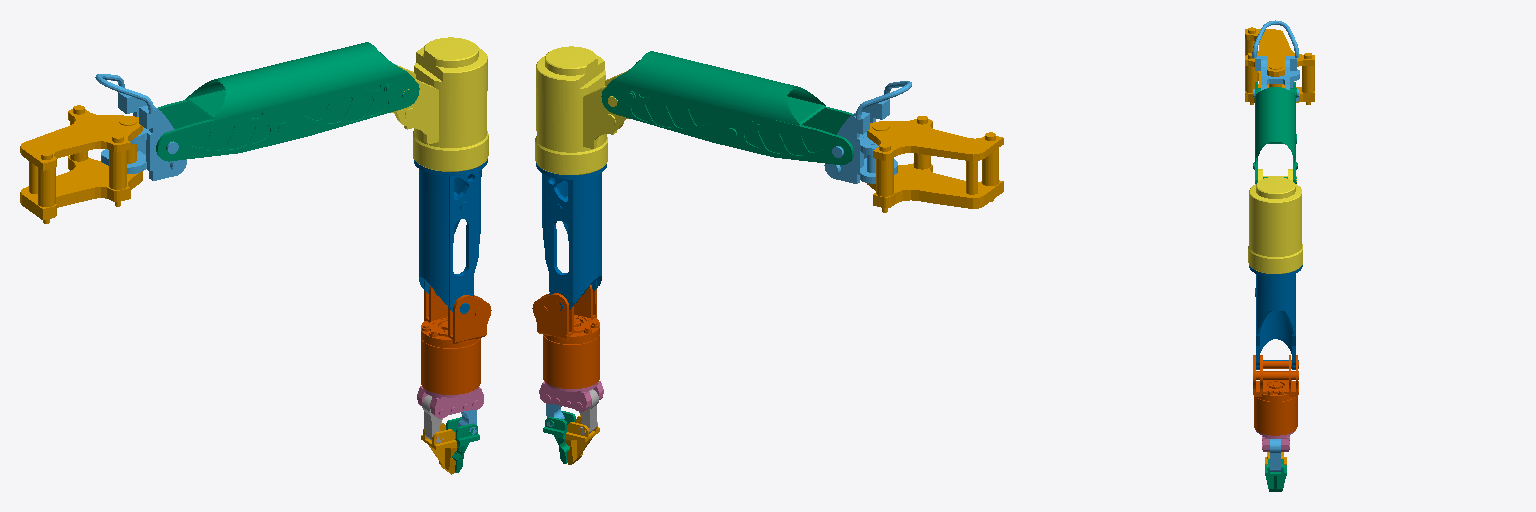
robot.urdf — oberon7:
<?xml version="1.0" encoding="utf-8"?>
<robot
  name="oberon7">
    <link name="base">
        <inertial>
          <origin rpy="0 0 0" xyz="-0.101581 -0.001371 -0.009781"/>
          <mass value="9.67467717018"/>
          <inertia ixx="0.0511731678147" ixy="0.0" ixz="0.0" iyy="0.0836771724144" iyz="0.0" izz="0.0958032978152"/>
        </inertial>

        <visual>
            <origin xyz="0 0 0" rpy="0 0 0"/>
            <geometry>
                <mesh filename="package://rexrov_triple_oberon_description/meshes/Base.stl"/>
            </geometry>
        </visual>

        <collision>
            <origin xyz="0 0 0" rpy="0 0 0"/>
            <geometry>
                <mesh filename="package://rexrov_triple_oberon_description/meshes/Base.stl"/>
            </geometry>
        </collision>
    </link>

    <link name="shoulder_link">
        <inertial>
          <origin rpy="0 0 0" xyz="0.039670 0.005441 0.017383"/>
          <mass value="6.72225246901"/>
          <inertia ixx="0.0425839738294" ixy="0.0" ixz="0.0" iyy="0.0513257548564" iyz="0.0" izz="0.0295765413777"/>
        </inertial>

        <visual>
            <origin xyz="0 0 0" rpy="0 0 0"/>
            <geometry>
                <mesh filename="package://rexrov_triple_oberon_description/meshes/ShoulderLink.stl"/>
            </geometry>
        </visual>

        <collision>
          <origin rpy="0 0 0" xyz="0.039670 0.005441 0.017383"/>
          <geometry>
            <cylinder length="0.239627" radius="0.068184"/>
          </geometry>
        </collision>
    </link>

    <joint name="azimuth" type="revolute">
        <parent link="base"/>
        <child link="shoulder_link"/>
        <axis xyz="0 0 1"/>
        <limit effort="200" lower="-1.04719758" upper="1.04719758" velocity="0.17"/>
    </joint>


    <link name="upper_arm">
        <inertial>
          <origin rpy="0 0 0" xyz="0.312501 0.017478 -0.000002"/>
          <mass value="12.4443999072"/>
          <inertia ixx="0.0378234483246" ixy="0.0" ixz="0.0" iyy="0.411488180504" iyz="0.0" izz="0.415420854645"/>
        </inertial>

        <visual>
            <origin xyz="0 0 0" rpy="0 0 0"/>
            <geometry>
                <mesh filename="package://rexrov_triple_oberon_description/meshes/UpperArm.stl"/>
            </geometry>
        </visual>

        <collision>
          <origin rpy="0 1.57079632679 0" xyz="0.312501 0.017478 -0.000002"/>
          <geometry>
            <cylinder length="0.616809" radius="0.0709445"/>
          </geometry>
        </collision>
    </link>

    <joint name="shoulder" type="revolute">
        <parent link="shoulder_link"/>
        <child link="upper_arm"/>
        <origin rpy="1.57079632679 0 0" xyz="0.06955 0.00015 0.01536"/>
        <axis xyz="0 0 1"/>
        <limit effort="5000" lower="-1.57079637" upper="1.57079637" velocity=".17"/>
    </joint>

    <link name="elbow_link">
        <inertial>
          <origin rpy="0 0 0" xyz="0.125269 -0.074675 0.0"/>
          <mass value="10.3145088675"/>
          <inertia ixx="0.0717197873733" ixy="0.0" ixz="0.0" iyy="0.0724090834438" iyz="0.0" izz="0.10276175034"/>
        </inertial>

        <visual>
            <origin xyz="0 0 0" rpy="0 0 0"/>
            <geometry>
                <mesh filename="package://rexrov_triple_oberon_description/meshes/ElbowLink.stl"/>
            </geometry>
        </visual>

        <collision>
          <origin rpy="0 1.57079632679 1.57079632679" xyz="0.125269 -0.074675 0.0"/>
          <geometry>
            <cylinder length="0.245312" radius="0.077562"/>
          </geometry>
        </collision>
    </link>

    <joint name="elbow" type="revolute">
        <parent link="upper_arm"/>
        <child link="elbow_link"/>
        <origin xyz="0.55616 -0.01229 0" rpy="0 0 0"/>
        <axis xyz="0 0 1"/>
        <limit effort="300" lower="-1.57079637" upper="1.04719758" velocity=".13"/>
    </joint>

    <link name="forearm">
        <inertial>
          <origin rpy="0 0 0" xyz="0 0 0.157978803149"/>
          <mass value="8.54626175585"/>
          <inertia ixx="0.0961794420773" ixy="0.0" ixz="0.0" iyy="0.0961902303084" iyz="0.0" izz="0.0326840256692"/>
        </inertial>

        <visual>
            <origin xyz="0 0 0" rpy="0 0 0"/>
            <geometry>
                <mesh filename="package://rexrov_triple_oberon_description/meshes/Forearm.stl"/>
            </geometry>
        </visual>

        <collision>
          <origin rpy="0 0 0" xyz="0 0 0.157978803149"/>
          <geometry>
            <cylinder length="0.334827" radius="0.0757275"/>
          </geometry>
        </collision>
    </link>

    <joint name="roll" type="revolute">
        <parent link="elbow_link"/>
        <child link="forearm"/>
        <origin rpy="1.57079632679 0 0" xyz="0.1349014 -0.1936267 0"/>
        <axis xyz="0 0 1"/>
        <limit effort="200" lower="-2.356194555" upper="2.356194555" velocity=".085"/>
    </joint>

    <link name="wrist_link">
        <inertial>
          <origin rpy="0 0 0" xyz="0.104016 0.003308 -0.000027"/>
          <mass value="3.9024235777"/>
          <inertia ixx="0.0104282209379" ixy="0.0" ixz="0.0" iyy="0.0211536636614" iyz="0.0" izz="0.020526721979"/>
        </inertial>

        <visual>
            <origin xyz="0 0 0" rpy="0 0 0"/>
            <geometry>
                <mesh filename="package://rexrov_triple_oberon_description/meshes/Wrist.stl"/>
            </geometry>
        </visual>

        <collision>
          <origin rpy="0 1.57079632679 0" xyz="0.104016 0.003308 -0.000027"/>
          <geometry>
            <cylinder length="0.219204" radius="0.065187"/>
          </geometry>
        </collision>
    </link>

    <joint name="pitch" type="revolute">
        <parent link="forearm"/>
        <child link="wrist_link"/>
        <origin rpy="-1.57079632679 -1.57079632679 0" xyz="0 0 0.31595760629823427"/>
        <axis xyz="0 0 1"/>
        <limit effort="200" lower="-1.57079637" upper="1.57079637" velocity=".26"/>
    </joint>







    <link name="end_effector">
        <inertial>
          <origin rpy="0 0 0" xyz="0.024426 -0.000000 -0.000014"/>
          <mass value="3.46114581082"/>
          <inertia ixx="0.00774521740658" ixy="0.0" ixz="0.0" iyy="0.00536142648454" iyz="0.0" izz="0.0055705568526"/>
        </inertial>

        <visual>
            <origin xyz="0 0 0" rpy="0 0 0"/>
            <geometry>
                <mesh filename="package://rexrov_triple_oberon_description/meshes/BaseGripper.stl"/>
            </geometry>
        </visual>

        <collision>
          <origin rpy="0 0 0" xyz="0.024426 -0.000000 -0.000014"/>
          <geometry>
            <box size="0.074326 0.117427 0.114298"/>
          </geometry>
        </collision>
    </link>

    <joint name="wrist" type="revolute">
        <parent link="wrist_link"/>
        <child link="end_effector"/>
        <origin rpy="3.1415 0 0" xyz="0.19304 0 0"/>
        <axis xyz="1 0 0"/>
        <limit effort="30" lower="-6.28318530718" upper="6.28318530718" velocity="0.15"/>
    </joint>

    <link name="finger_left">
        <inertial>
          <origin rpy="0 0 0" xyz="0.025268 -0.001931 -0.000079"/>
          <mass value="0.879770511849"/>
          <inertia ixx="0.000378330605849" ixy="0.0" ixz="0.0" iyy="0.000886148330217" iyz="0.0" izz="0.00091923080428"/>
        </inertial>

        <visual>
            <origin xyz="0 0 0" rpy="0 0 0"/>
            <geometry>
                <mesh filename="package://rexrov_triple_oberon_description/meshes/Finger.stl"/>
            </geometry>
        </visual>

        <collision>
            <origin xyz="0 0 0" rpy="0 0 0"/>
            <geometry>
                <mesh filename="package://rexrov_triple_oberon_description/meshes/Finger.stl"/>
            </geometry>
        </collision>
    </link>

    <joint name="finger_left_joint" type="revolute">
        <parent link="end_effector"/>
        <child link="finger_left"/>
        <origin xyz="0.0444267 0.0391376 0" rpy="0 0 0"/>
        <axis xyz="0 0 1"/>
        <limit effort="30" lower="0" upper="1.04709283144" velocity="0.15"/>
    </joint>

    <link name="finger_tip_left">
        <inertial>
          <origin rpy="0 0 0" xyz="0.027744 0.017278 0.0"/>
          <mass value="1.12550524054"/>
          <inertia ixx="0.000611047001819" ixy="0.0" ixz="0.0" iyy="0.00134903081039" iyz="0.0" izz="0.00121555609857"/>
        </inertial>

        <visual>
            <origin xyz="0 0 0" rpy="0 0 0"/>
            <geometry>
                <mesh filename="package://rexrov_triple_oberon_description/meshes/FingerTip.stl"/>
            </geometry>
        </visual>

        <collision>
            <origin xyz="0 0 0" rpy="0 0 0"/>
            <geometry>
                <mesh filename="package://rexrov_triple_oberon_description/meshes/FingerTip.stl"/>
            </geometry>
        </collision>
    </link>

    <joint name="finger_tip_left_joint" type="revolute">
        <parent link="finger_left"/>
        <child link="finger_tip_left"/>
        <origin rpy="3.14159265359 0 0" xyz="0.06431 0 0"/>
        <axis xyz="0 0 1"/>
        <limit effort="0" lower="-3.1415" upper="3.1415" velocity="0"/>
    </joint>

    <link name="finger_right">
        <inertial>
          <origin rpy="0 0 0" xyz="0.025268 -0.001931 -0.000079"/>
          <mass value="0.879770511849"/>
          <inertia ixx="0.000378330605849" ixy="0.0" ixz="0.0" iyy="0.000886148330217" iyz="0.0" izz="0.00091923080428"/>
        </inertial>

        <visual>
            <origin rpy="3.14159265359 0 0" xyz="0 0 0"/>
            <geometry>
                <mesh filename="package://rexrov_triple_oberon_description/meshes/Finger.stl"/>
            </geometry>
        </visual>

        <collision>
            <origin rpy="3.14159265359 0 0" xyz="0 0 0"/>
            <geometry>
                <mesh filename="package://rexrov_triple_oberon_description/meshes/Finger.stl"/>
            </geometry>
        </collision>
    </link>

    <joint name="finger_right_joint" type="revolute">
        <parent link="end_effector"/>
        <child link="finger_right"/>
        <origin rpy="3.14159265359 3.14159265359 3.14159265359" xyz="0.0444267 -0.0391376 0"/>
        <axis xyz="0 0 -1"/>
        <limit effort="30" lower="0" upper="1.04709283144" velocity="0.15"/>
    </joint>

    <link name="finger_tip_right">
        <inertial>
          <origin rpy="0 0 0" xyz="0.027744 0.017278 0.0"/>
          <mass value="1.12550524054"/>
          <inertia ixx="0.000611047001819" ixy="0.0" ixz="0.0" iyy="0.00134903081039" iyz="0.0" izz="0.00121555609857"/>
        </inertial>

        <visual>
            <origin xyz="0 0 0" rpy="0 0 0"/>
            <geometry>
                <mesh filename="package://rexrov_triple_oberon_description/meshes/FingerTip.stl"/>
            </geometry>
        </visual>

        <collision>
            <origin xyz="0 0 0" rpy="0 0 0"/>
            <geometry>
                <mesh filename="package://rexrov_triple_oberon_description/meshes/FingerTip.stl"/>
            </geometry>
        </collision>
    </link>

    <joint name="finger_tip_right_joint" type="revolute">
        <parent link="finger_right"/>
        <child link="finger_tip_right"/>
        <origin xyz="0.06431 0 0" rpy="0 0 0"/>
        <axis xyz="0 0 1"/>
        <limit effort="0" lower="-3.1415" upper="3.1415" velocity="0"/>
    </joint>    
</robot>

--- What the picture shows (computed from the rendered views, not written in the file) ---
The picture shows the robot from 3 angles, left to right: view 1: azimuth 30°, elevation 25°; view 2: azimuth 150°, elevation 25°; view 3: azimuth 270°, elevation 25°; orthographic projection.
Model oberon7 with 11 links and 10 joints (10 revolute), rooted at base, posed every joint at zero.
Visible links, largest first — view 1: upper_arm, elbow_link, base, forearm, wrist_link, shoulder_link, end_effector, finger_tip_left, finger_tip_right; view 2: upper_arm, elbow_link, base, forearm, wrist_link, shoulder_link, end_effector, finger_tip_left, finger_tip_right; view 3: elbow_link, wrist_link, forearm, base, upper_arm, shoulder_link.
Link boxes in pixels (bbox=[...]): upper_arm: bbox=[156, 42, 419, 161]; elbow_link: bbox=[391, 37, 488, 171]; base: bbox=[20, 105, 142, 223]; forearm: bbox=[414, 159, 487, 313]; wrist_link: bbox=[421, 286, 491, 394]; shoulder_link: bbox=[95, 74, 186, 180]; end_effector: bbox=[417, 386, 483, 418]; finger_tip_left: bbox=[421, 422, 457, 474]; finger_tip_right: bbox=[446, 417, 479, 472]; upper_arm: bbox=[601, 51, 853, 164]; elbow_link: bbox=[535, 46, 628, 174]; base: bbox=[867, 116, 1003, 212]; forearm: bbox=[536, 163, 606, 310]; wrist_link: bbox=[532, 285, 599, 388]; shoulder_link: bbox=[824, 81, 911, 183]; end_effector: bbox=[539, 381, 603, 411]; finger_tip_left: bbox=[565, 415, 599, 464]; finger_tip_right: bbox=[543, 411, 575, 463]; elbow_link: bbox=[1248, 169, 1302, 273]; wrist_link: bbox=[1253, 355, 1298, 435]; forearm: bbox=[1249, 265, 1302, 369]; base: bbox=[1245, 27, 1314, 104]; upper_arm: bbox=[1253, 82, 1297, 183]; shoulder_link: bbox=[1252, 20, 1299, 101].
Size in the robot's own frame: 1.09 by 0.1981 by 1.08 metres.
Meshes: 9 distinct files referenced, 11 mesh visuals loaded (9 binary STL).
